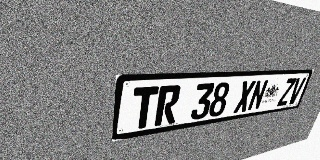3: (190, 83, 215, 121)
8: (207, 82, 232, 118)
N: (247, 80, 269, 111)
R: (154, 85, 182, 126)
T: (130, 86, 159, 130)
V: (287, 77, 306, 105)
X: (233, 80, 256, 113)
Z: (277, 78, 297, 106)
